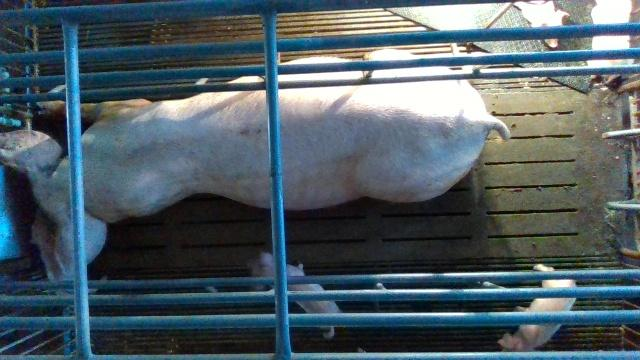piglet: (245, 253, 344, 338), (483, 265, 577, 352), (587, 0, 634, 66), (514, 1, 569, 47)
sow-sit: (0, 50, 510, 280)
